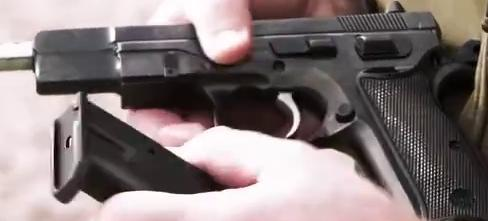gun: (1, 1, 488, 221)
